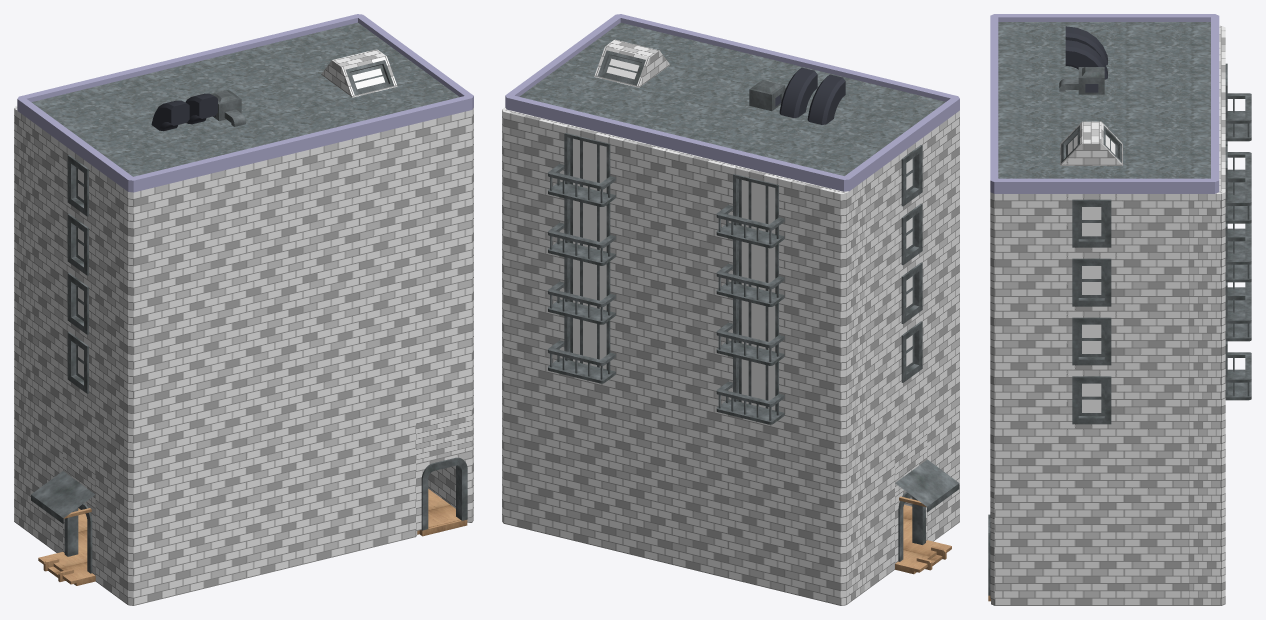
The model's file is Foyer 2.fbx.
3 renders of one model, left to right at view 1: azimuth 30°, elevation 25°; view 2: azimuth 150°, elevation 25°; view 3: azimuth 270°, elevation 25°, orthographic.
Visible parts, largest first — view 1: wall (×65), roof_flatCenter, window_closed (×4), roof_flatCorner (×4), roof_flatSide (×5), doorway_wideRounded (×2), roof_windowGlassLarge, awning_single%, arch_half (×2), porch_floorSteps, detail_ventSmall, porch_floorCenter; view 2: wall (×57), roof_flatCenter, window_largeVertical (×8), balcony_basic (×8), window_closed (×4), roof_flatCorner (×4), roof_flatSide (×5), arch_half (×2), roof_windowGlassLarge, awning_single%, doorway_wideRounded, porch_floorSteps (+1 smaller); view 3: wall (×25), roof_flatCenter, window_closed (×4), balcony_basic (×8), roof_flatCorner (×4), roof_windowGlassLarge, roof_flatSide (×3), arch_half (×2), detail_ventSmall, window_largeVertical (×2), doorway_wideRounded.
Part boxes in pixels (x1,y1,x2,y2): wall (×65): [14, 107, 473, 605]; roof_flatCenter: [32, 22, 459, 176]; window_closed (×4): [63, 144, 95, 403]; roof_flatCorner (×4): [17, 14, 473, 192]; roof_flatSide (×5): [63, 109, 416, 178]; doorway_wideRounded (×2): [63, 444, 473, 575]; roof_windowGlassLarge: [321, 49, 397, 97]; awning_single%: [31, 471, 95, 523]; arch_half (×2): [151, 93, 217, 131]; porch_floorSteps: [38, 552, 95, 585]; detail_ventSmall: [211, 89, 245, 126]; porch_floorCenter: [417, 493, 458, 534]; wall (×57): [502, 109, 959, 605]; roof_flatCenter: [519, 22, 945, 175]; window_largeVertical (×8): [559, 123, 789, 412]; balcony_basic (×8): [548, 164, 784, 424]; window_closed (×4): [895, 134, 927, 392]; roof_flatCorner (×4): [505, 14, 959, 191]; roof_flatSide (×5): [563, 108, 927, 177]; arch_half (×2): [779, 67, 845, 124]; roof_windowGlassLarge: [594, 39, 669, 87]; awning_single%: [895, 459, 959, 512]; doorway_wideRounded: [895, 488, 927, 563]; porch_floorSteps: [895, 540, 951, 574]; wall (×25): [991, 163, 1225, 605]; roof_flatCenter: [998, 22, 1210, 178]; window_closed (×4): [1059, 194, 1124, 429]; balcony_basic (×8): [1225, 93, 1251, 400]; roof_flatCorner (×4): [990, 14, 1219, 193]; roof_windowGlassLarge: [1060, 121, 1122, 165]; roof_flatSide (×3): [1056, 14, 1152, 193]; arch_half (×2): [1065, 26, 1107, 79]; detail_ventSmall: [1059, 67, 1104, 94]; window_largeVertical (×2): [1219, 54, 1227, 217]; doorway_wideRounded: [988, 514, 994, 599].
Bounding box in the file's own units: 67.23 × 76.65 × 40.55.
Materials: 12 (8 with a texture image).
